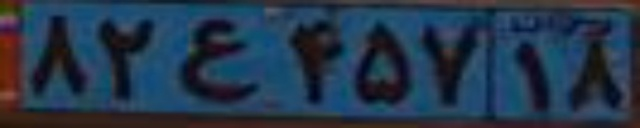1: (510, 41, 550, 109)
2: (96, 16, 157, 100)
4: (287, 21, 343, 104)
5: (351, 20, 410, 104)
7: (419, 20, 480, 106)
8: (27, 14, 85, 94), (568, 38, 622, 111)
ain: (176, 17, 261, 101)
